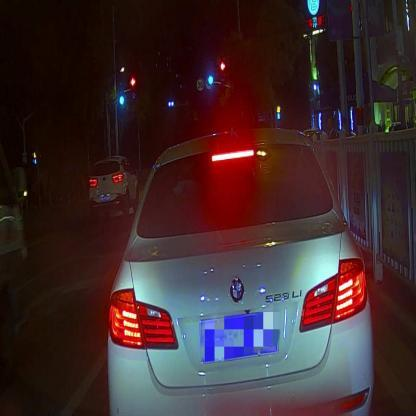Green Light: (117, 77, 126, 107)
